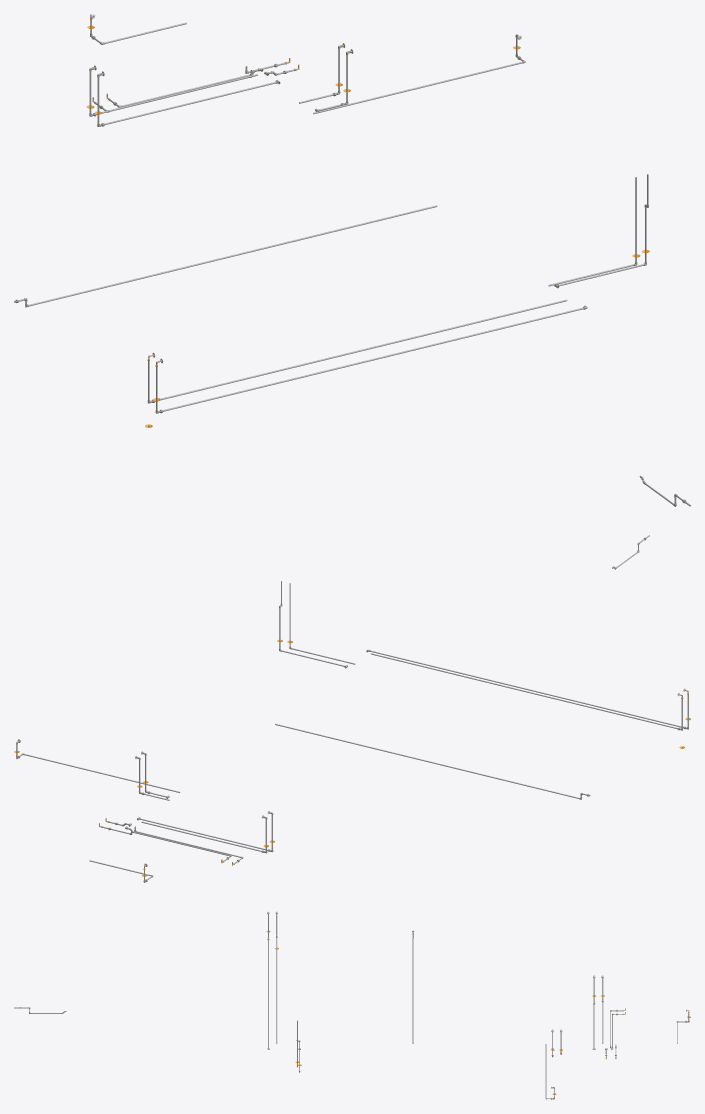
The model's file is pipes_supply__plumbing-galvanized.glb.
3 views of the same model, one above another, from view 1: azimuth 30°, elevation 25°; view 2: azimuth 150°, elevation 25°; view 3: azimuth 270°, elevation 25° (orthographic). The views are drawn at different scales.
Visible parts, largest first — view 1: pipe_supply_branch_kitchen_hot__galvanized, pipe_supply_branch_kitchen_cold__galvanized, pipe_supply_branch_hosebib_back__galvanized; view 2: pipe_supply_branch_kitchen_hot__galvanized, pipe_supply_branch_kitchen_cold__galvanized, pipe_supply_branch_hosebib_back__galvanized; view 3: no part large enough to name.
Boxes of the visible parts, x1,y1,x2,y2 form: pipe_supply_branch_kitchen_hot__galvanized: (156,307,583,412); pipe_supply_branch_kitchen_cold__galvanized: (148,300,566,402); pipe_supply_branch_hosebib_back__galvanized: (14,205,437,306); pipe_supply_branch_kitchen_hot__galvanized: (370,650,688,728); pipe_supply_branch_kitchen_cold__galvanized: (371,653,682,729); pipe_supply_branch_hosebib_back__galvanized: (275,723,590,798).
Bounding box in the file's own units: 9.31 × 1.56 × 16.15.
